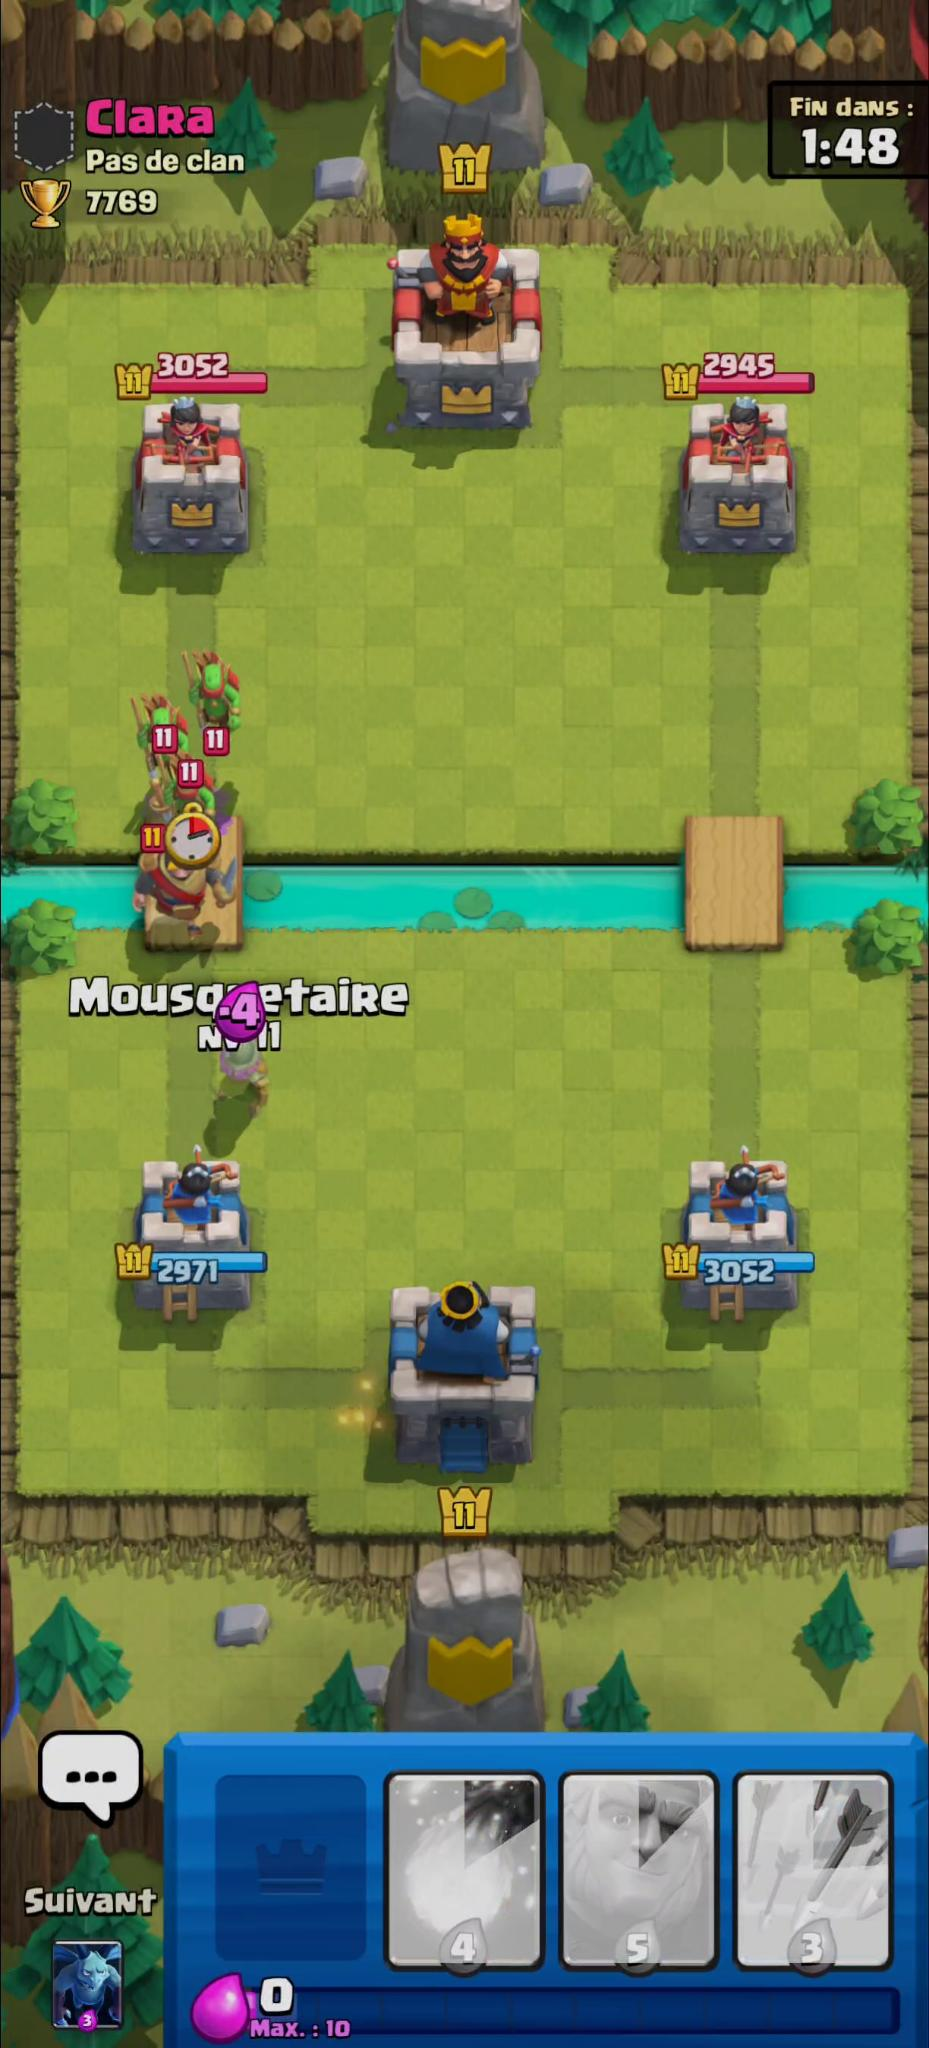chevalier: (129, 844, 244, 947)
gobelin_lances: (180, 648, 246, 738), (154, 756, 226, 823), (131, 694, 189, 775)
mousquetaire: (206, 1041, 273, 1122)
